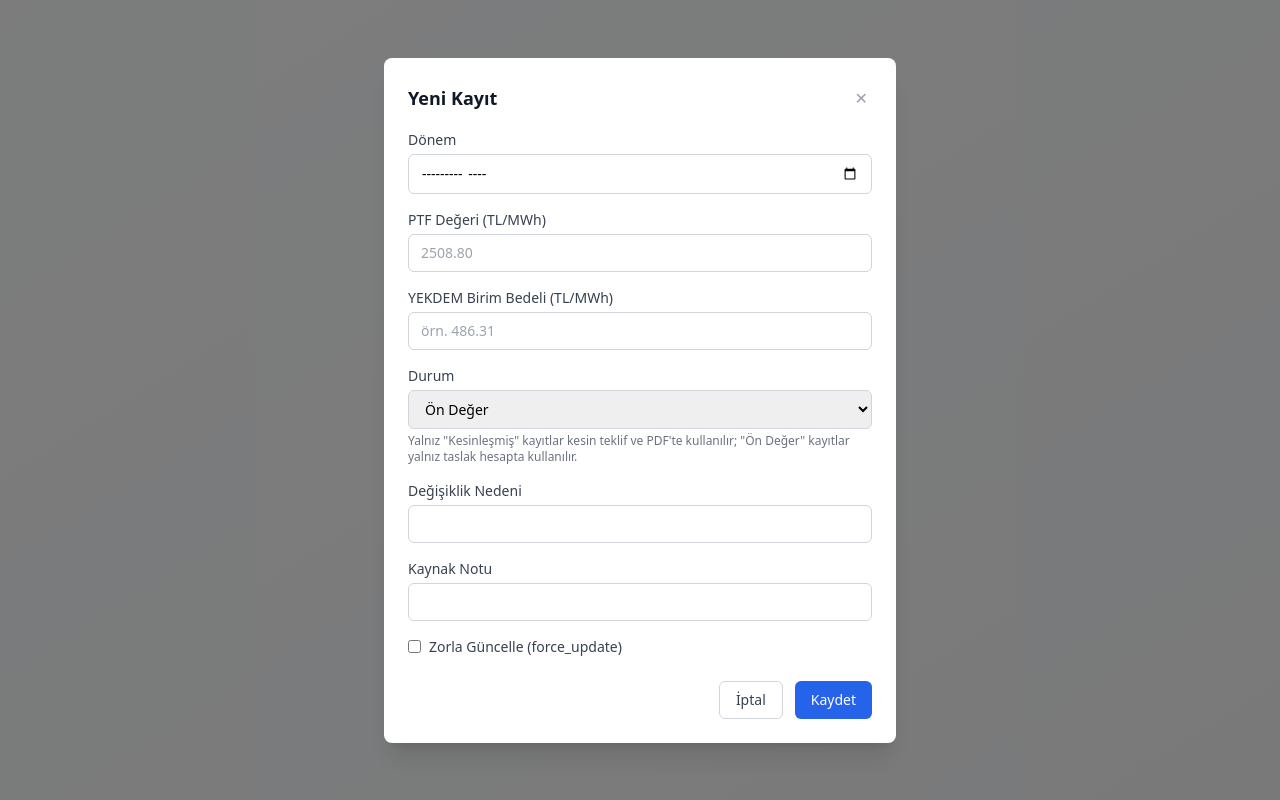
Scenario: UpsertFormModal — YEKDEM alanı › yeni kayıtta YEKDEM boşsa gönderilmez ve alan hatası gösterilir
This screenshot has width=1280, height=800.
Type "2026-07" into the field with id "upsert-period" at (640, 174), box [408,154,872,194]
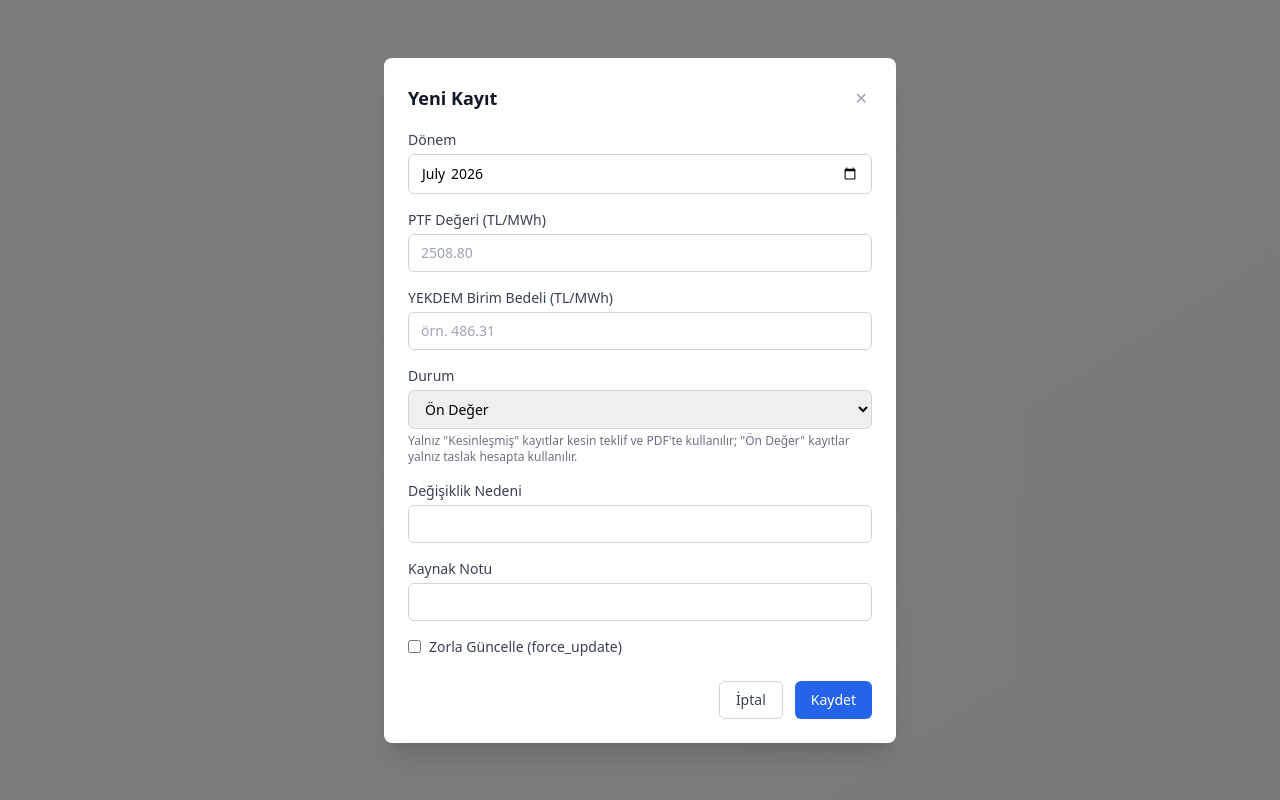
Type "2699.61" into the field with id "upsert-value" at (640, 252), box [408,234,872,272]
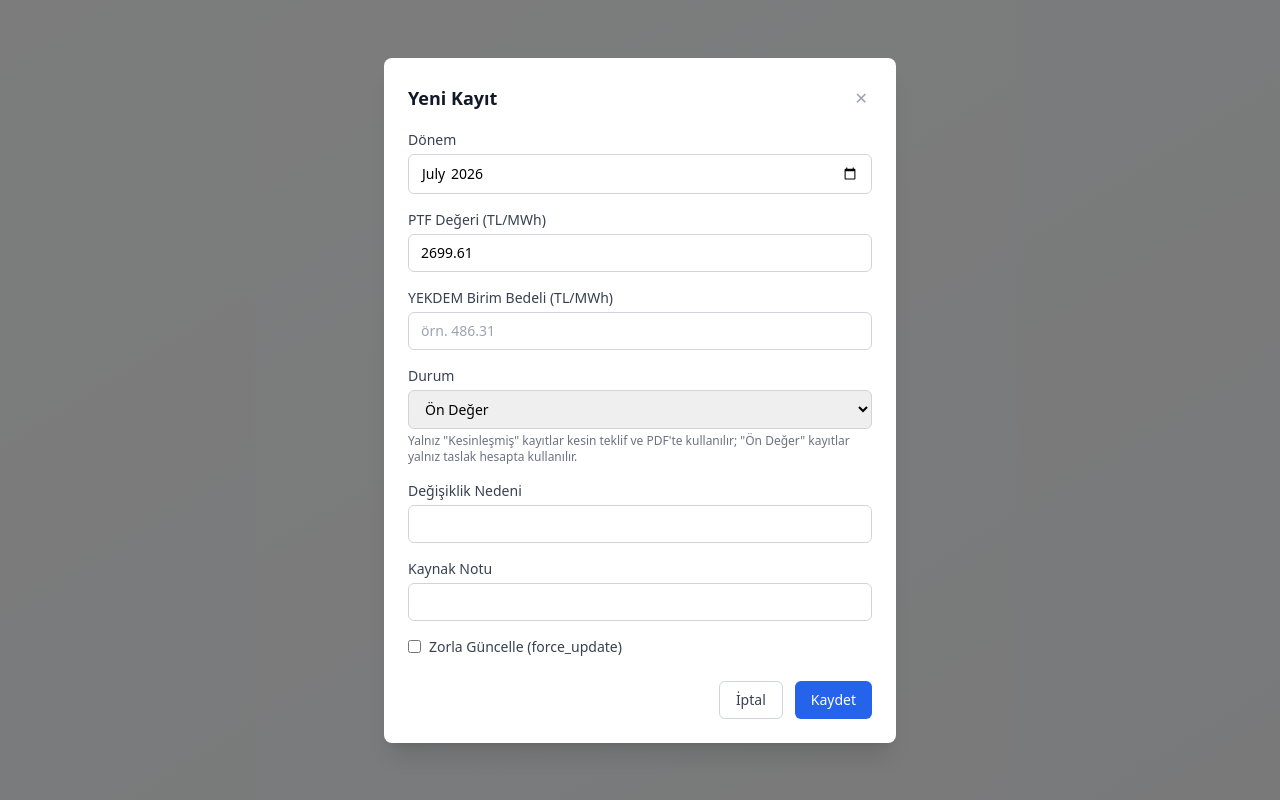
Click the button "Kaydet" at (833, 700), box [795,680,872,718]
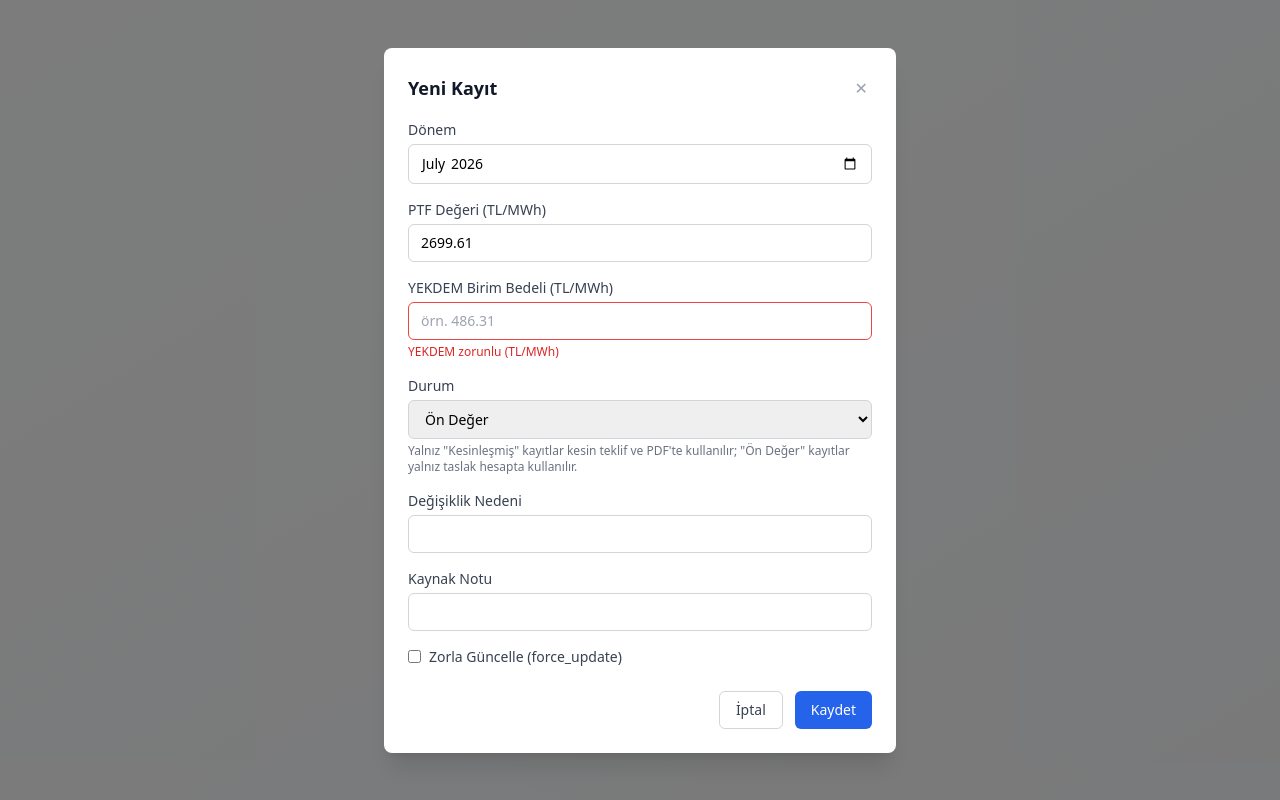
Expected: the text with test id "error-yekdem_value" shows "YEKDEM zorunlu", [408,342,559,360]
